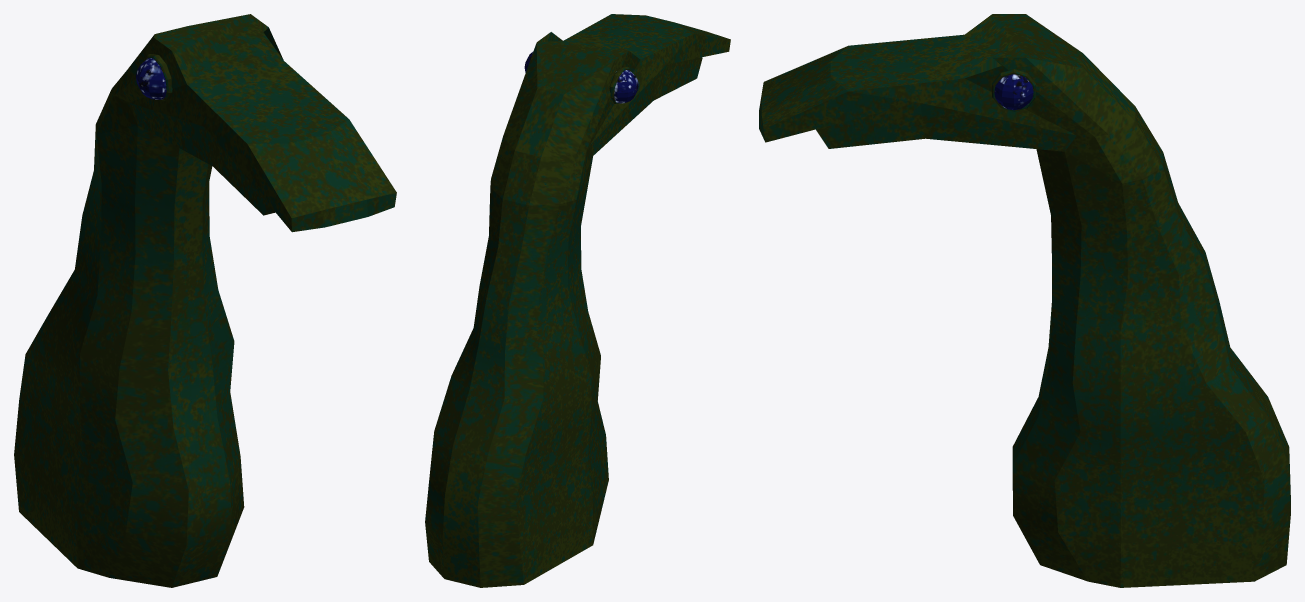
Rendered from Lagarto 3.obj.
3 renders of one model, left to right at view 1: azimuth 30°, elevation 25°; view 2: azimuth 150°, elevation 25°; view 3: azimuth 270°, elevation 25°, orthographic. The views are drawn at different scales.
Parts seen in each view (by area): view 1: polySurface51; view 2: polySurface51; view 3: polySurface51.
Boxes of the visible parts, box(x1,y1,x2,y2) form: polySurface51: box(14, 14, 396, 587); polySurface51: box(425, 14, 730, 587); polySurface51: box(759, 14, 1290, 587).
Bounding box in the file's own units: 0.9289 × 3.4 × 3.15.
Materials: 2 (2 with a texture image).
